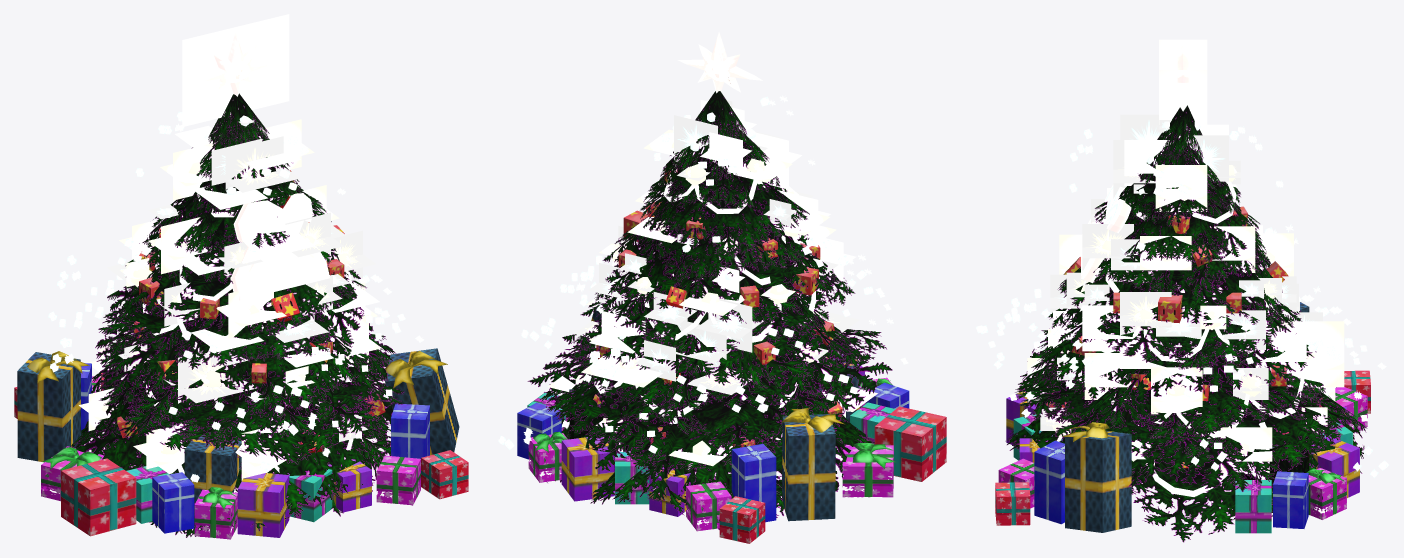
File: n_SEbtree02_event01.glb
3 views of the same model, side by side, from view 1: azimuth 30°, elevation 25°; view 2: azimuth 150°, elevation 25°; view 3: azimuth 270°, elevation 25° (orthographic). The views are drawn at different scales.
Parts seen in each view (by area): view 1: n_SEbtree02_event01; view 2: n_SEbtree02_event01; view 3: n_SEbtree02_event01.
Part boxes in pixels (<box>): n_SEbtree02_event01: <box>14,14,468,539</box>; n_SEbtree02_event01: <box>498,32,946,543</box>; n_SEbtree02_event01: <box>976,39,1388,542</box>.
Bounding box in the file's own units: 4.85 × 5.51 × 4.72.
12 materials, 12 textured.
